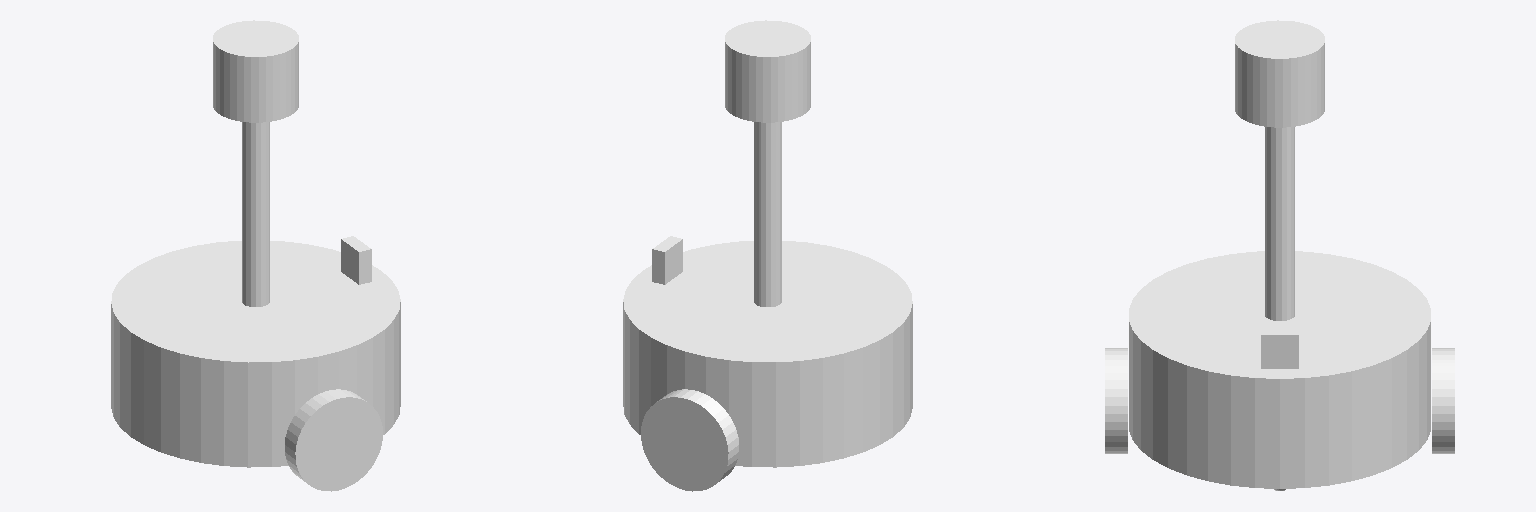
URDF robot description (slam_car_urdf):
<?xml version="1.0" encoding="utf-8"?>
<!-- This URDF was automatically created by SolidWorks to URDF Exporter! Originally created by [author] ([email redacted]) 
     Commit Version: 1.6.0-4-g7f85cfe  Build Version: 1.6.7995.38578
     For more information, please see http://wiki.ros.org/sw_urdf_exporter -->
<robot
  name="slam_car_urdf">
  <link
    name="base_link">
    <inertial>
      <origin
        xyz="-1.79451050096713E-17 0 0.0225"
        rpy="0 0 0" />
      <mass
        value="2.51327412287183" />
      <inertia
        ixx="0.00762359817271123"
        ixy="1.07186196898297E-50"
        ixz="-2.72707632382106E-18"
        iyy="0.00762359817271123"
        iyz="-1.94272883206886E-35"
        izz="0.0125663706143592" />
    </inertial>
    <visual>
      <origin
        xyz="0 0 0"
        rpy="0 0 0" />
      <geometry>
        <mesh
          filename="package://slam_car_urdf/meshes/base_link.STL" />
      </geometry>
      <material
        name="">
        <color
          rgba="1 1 1 1" />
      </material>
    </visual>
    <collision>
      <origin
        xyz="0 0 0"
        rpy="0 0 0" />
      <geometry>
        <mesh
          filename="package://slam_car_urdf/meshes/base_link.STL" />
      </geometry>
    </collision>
  </link>
  <link
    name="right">
    <inertial>
      <origin
        xyz="-3.60878140608269E-19 6.93889390390723E-18 -0.00749999999999999"
        rpy="0 0 0" />
      <mass
        value="0.0577267650097125" />
      <inertia
        ixx="1.87611986281566E-05"
        ixy="-4.27201574096171E-38"
        ixz="-1.80534032376123E-23"
        iyy="1.87611986281566E-05"
        iyz="6.67041240997494E-22"
        izz="3.53576435684489E-05" />
    </inertial>
    <visual>
      <origin
        xyz="0 0 0"
        rpy="0 0 0" />
      <geometry>
        <mesh
          filename="package://slam_car_urdf/meshes/right.STL" />
      </geometry>
      <material
        name="">
        <color
          rgba="1 1 1 1" />
      </material>
    </visual>
    <collision>
      <origin
        xyz="0 0 0"
        rpy="0 0 0" />
      <geometry>
        <mesh
          filename="package://slam_car_urdf/meshes/right.STL" />
      </geometry>
    </collision>
  </link>
  <joint
    name="r"
    type="continuous">
    <origin
      xyz="0 -0.115 0"
      rpy="1.5707963267949 0 0" />
    <parent
      link="base_link" />
    <child
      link="right" />
    <axis
      xyz="0 0 1" />
  </joint>
  <link
    name="left">
    <inertial>
      <origin
        xyz="-2.67972330793522E-19 3.46944695195361E-18 0.00750000000000001"
        rpy="0 0 0" />
      <mass
        value="0.0577267650097125" />
      <inertia
        ixx="1.87611986281566E-05"
        ixy="-1.74700545371199E-21"
        ixz="8.10839387363186E-24"
        iyy="1.87611986281565E-05"
        iyz="6.36832889208227E-22"
        izz="3.53576435684489E-05" />
    </inertial>
    <visual>
      <origin
        xyz="0 0 0"
        rpy="0 0 0" />
      <geometry>
        <mesh
          filename="package://slam_car_urdf/meshes/left.STL" />
      </geometry>
      <material
        name="">
        <color
          rgba="1 1 1 1" />
      </material>
    </visual>
    <collision>
      <origin
        xyz="0 0 0"
        rpy="0 0 0" />
      <geometry>
        <mesh
          filename="package://slam_car_urdf/meshes/left.STL" />
      </geometry>
    </collision>
  </link>
  <joint
    name="left_driven"
    type="continuous">
    <origin
      xyz="0 0.115 0"
      rpy="1.5708 0 0" />
    <parent
      link="base_link" />
    <child
      link="left" />
    <axis
      xyz="0 0 1" />
  </joint>
  <link
    name="front">
    <inertial>
      <origin
        xyz="0 -2.3404423700906E-19 0"
        rpy="0 0 0" />
      <mass
        value="0.00176714586764426" />
      <inertia
        ixx="3.97607820219958E-08"
        ixy="2.86886809144189E-24"
        ixz="-3.22897170824252E-24"
        iyy="3.97607820219958E-08"
        iyz="-4.24929064425396E-24"
        izz="3.97607820219958E-08" />
    </inertial>
    <visual>
      <origin
        xyz="0 0 0"
        rpy="0 0 0" />
      <geometry>
        <mesh
          filename="package://slam_car_urdf/meshes/front.STL" />
      </geometry>
      <material
        name="">
        <color
          rgba="1 1 1 1" />
      </material>
    </visual>
    <collision>
      <origin
        xyz="0 0 0"
        rpy="0 0 0" />
      <geometry>
        <mesh
          filename="package://slam_car_urdf/meshes/front.STL" />
      </geometry>
    </collision>
  </link>
  <joint
    name="f_driven"
    type="continuous">
    <origin
      xyz="0.07 0 -0.025"
      rpy="0 0 0" />
    <parent
      link="base_link" />
    <child
      link="front" />
    <axis
      xyz="1 0 0" />
  </joint>
  <link
    name="back">
    <inertial>
      <origin
        xyz="0 1.1702211850453E-19 8.67361737988404E-19"
        rpy="0 0 0" />
      <mass
        value="0.00176714586764426" />
      <inertia
        ixx="3.97607820219958E-08"
        ixy="2.04657953337569E-24"
        ixz="-4.90432414504321E-24"
        iyy="3.97607820219958E-08"
        iyz="-3.46956680478304E-24"
        izz="3.97607820219958E-08" />
    </inertial>
    <visual>
      <origin
        xyz="0 0 0"
        rpy="0 0 0" />
      <geometry>
        <mesh
          filename="package://slam_car_urdf/meshes/back.STL" />
      </geometry>
      <material
        name="">
        <color
          rgba="1 1 1 1" />
      </material>
    </visual>
    <collision>
      <origin
        xyz="0 0 0"
        rpy="0 0 0" />
      <geometry>
        <mesh
          filename="package://slam_car_urdf/meshes/back.STL" />
      </geometry>
    </collision>
  </link>
  <joint
    name="back_driven"
    type="continuous">
    <origin
      xyz="-0.07 0 -0.025"
      rpy="0 0 0" />
    <parent
      link="base_link" />
    <child
      link="back" />
    <axis
      xyz="1 0 0" />
  </joint>
  <link
    name="camera">
    <inertial>
      <origin
        xyz="0 -4.12335585688332E-18 0.0125"
        rpy="0 0 0" />
      <mass
        value="0.00625" />
      <inertia
        ixx="6.51041666666667E-07"
        ixy="-5.95728924546422E-24"
        ixz="1.64948095499974E-22"
        iyy="3.77604166666667E-07"
        iyz="4.99809992886639E-23"
        izz="3.77604166666667E-07" />
    </inertial>
    <visual>
      <origin
        xyz="0 0 0"
        rpy="0 0 0" />
      <geometry>
        <mesh
          filename="package://slam_car_urdf/meshes/camera.STL" />
      </geometry>
      <material
        name="">
        <color
          rgba="1 1 1 1" />
      </material>
    </visual>
    <collision>
      <origin
        xyz="0 0 0"
        rpy="0 0 0" />
      <geometry>
        <mesh
          filename="package://slam_car_urdf/meshes/camera.STL" />
      </geometry>
    </collision>
  </link>
  <joint
    name="camera_fixed"
    type="fixed">
    <origin
      xyz="0.08 0 0.0625"
      rpy="0 0 0" />
    <parent
      link="base_link" />
    <child
      link="camera" />
    <axis
      xyz="0 0 0" />
  </joint>
  <link
    name="laser_support">
    <inertial>
      <origin
        xyz="-4.1413007865299E-17 -5.2907515930031E-19 0.075"
        rpy="0 0 0" />
      <mass
        value="0.0471238898038469" />
      <inertia
        ixx="8.9535390627309E-05"
        ixy="4.96308367531817E-23"
        ixz="4.80993864318015E-20"
        iyy="8.9535390627309E-05"
        iyz="2.8535407990337E-37"
        izz="2.35619449019235E-06" />
    </inertial>
    <visual>
      <origin
        xyz="0 0 0"
        rpy="0 0 0" />
      <geometry>
        <mesh
          filename="package://slam_car_urdf/meshes/laser_support.STL" />
      </geometry>
      <material
        name="">
        <color
          rgba="1 1 1 1" />
      </material>
    </visual>
    <collision>
      <origin
        xyz="0 0 0"
        rpy="0 0 0" />
      <geometry>
        <mesh
          filename="package://slam_car_urdf/meshes/laser_support.STL" />
      </geometry>
    </collision>
  </link>
  <joint
    name="laser_sup_fixed"
    type="continuous">
    <origin
      xyz="0 0 0.0625"
      rpy="0 0 0" />
    <parent
      link="base_link" />
    <child
      link="laser_support" />
    <axis
      xyz="0 0 1" />
  </joint>
  <link
    name="laser">
    <inertial>
      <origin
        xyz="-1.34362177014971E-17 -2.03864780368065E-18 0.025"
        rpy="0 0 0" />
      <mass
        value="0.141371669411541" />
      <inertia
        ixx="6.12610567450009E-05"
        ixy="2.76303274868706E-36"
        ixz="-2.38538838926736E-21"
        iyy="6.12610567450009E-05"
        iyz="-5.37308287535703E-22"
        izz="6.36172512351933E-05" />
    </inertial>
    <visual>
      <origin
        xyz="0 0 0"
        rpy="0 0 0" />
      <geometry>
        <mesh
          filename="package://slam_car_urdf/meshes/laser.STL" />
      </geometry>
      <material
        name="">
        <color
          rgba="1 1 1 1" />
      </material>
    </visual>
    <collision>
      <origin
        xyz="0 0 0"
        rpy="0 0 0" />
      <geometry>
        <mesh
          filename="package://slam_car_urdf/meshes/laser.STL" />
      </geometry>
    </collision>
  </link>
  <joint
    name="laser_fixed"
    type="continuous">
    <origin
      xyz="0 0 0.15"
      rpy="0 0 0" />
    <parent
      link="laser_support" />
    <child
      link="laser" />
    <axis
      xyz="0 0 1" />
  </joint>
</robot>

--- Facts derived from the render (not from the file) ---
Views: 3 orthographic renders of the robot side by side, from view 1: azimuth 30°, elevation 25°; view 2: azimuth 150°, elevation 25°; view 3: azimuth 270°, elevation 25°.
Robot: slam_car_urdf — 8 links, 7 joints (6 continuous, 1 fixed); root link base_link; default pose: every joint at zero.
Visible links, largest first — view 1: base_link, laser, right, laser_support, camera; view 2: base_link, laser, left, laser_support, camera; view 3: base_link, laser, laser_support, right, left, camera.
Link boxes in pixels (x1,y1,x2,y2): base_link: (111, 241, 400, 467); laser: (213, 20, 298, 122); right: (285, 389, 382, 491); laser_support: (242, 122, 269, 306); camera: (341, 236, 371, 284); base_link: (623, 241, 912, 467); laser: (725, 20, 810, 122); left: (641, 389, 738, 491); laser_support: (754, 122, 781, 306); camera: (652, 236, 682, 284); base_link: (1129, 251, 1430, 488); laser: (1235, 20, 1324, 127); laser_support: (1265, 127, 1294, 320); right: (1105, 348, 1127, 453); left: (1432, 348, 1454, 453); camera: (1261, 329, 1298, 368).
Bounding box of the posed robot: 0.2 × 0.23 × 0.2975 m (x, y, z).
8 mesh visuals loaded from 8 distinct referenced files (8 binary STL).